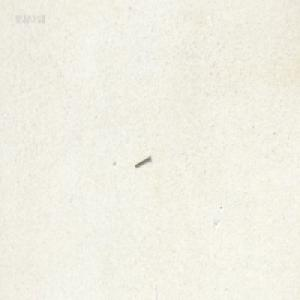Bolt: (133, 154, 151, 167)
